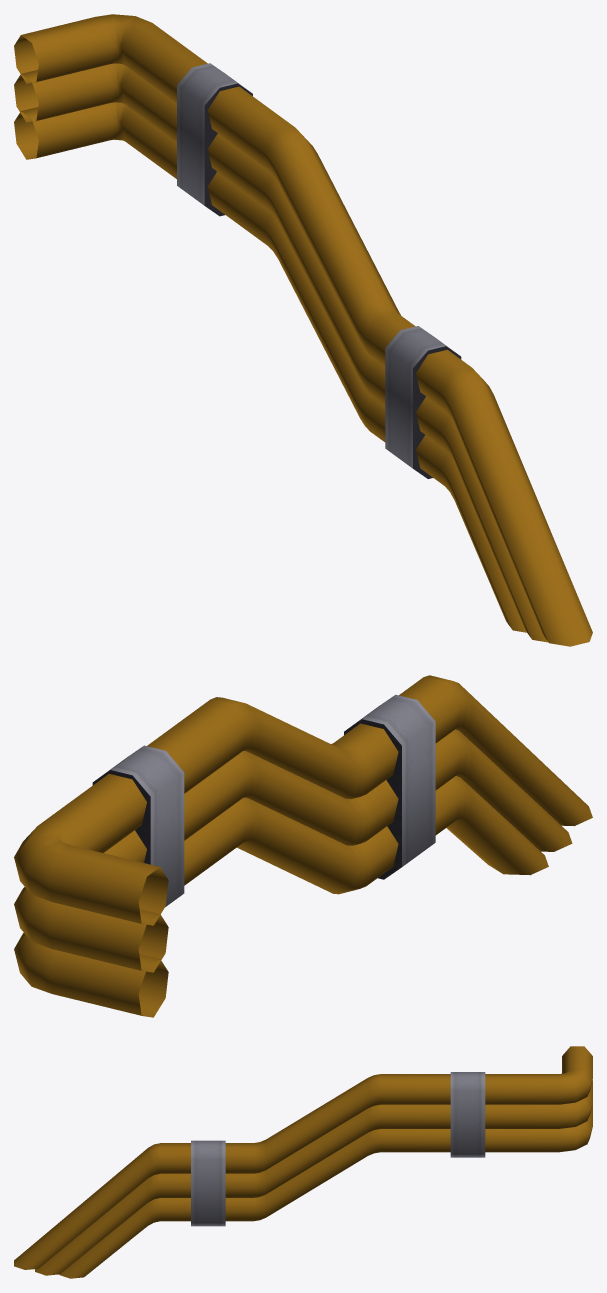
File: mdlCLPipesYellow.fbx
The picture shows the model from 3 angles, top to bottom: view 1: azimuth 30°, elevation 25°; view 2: azimuth 150°, elevation 25°; view 3: azimuth 270°, elevation 25°; orthographic projection. The views are drawn at different scales.
Visible parts, largest first — view 1: Yellow Pipes; view 2: Yellow Pipes; view 3: Yellow Pipes.
Boxes of the visible parts, x1=… form: Yellow Pipes: x1=14, y1=14, x2=592, y2=646; Yellow Pipes: x1=14, y1=675, x2=592, y2=1017; Yellow Pipes: x1=14, y1=1046, x2=592, y2=1278.
Bounding box in the file's own units: 555 × 1347 × 3585.
